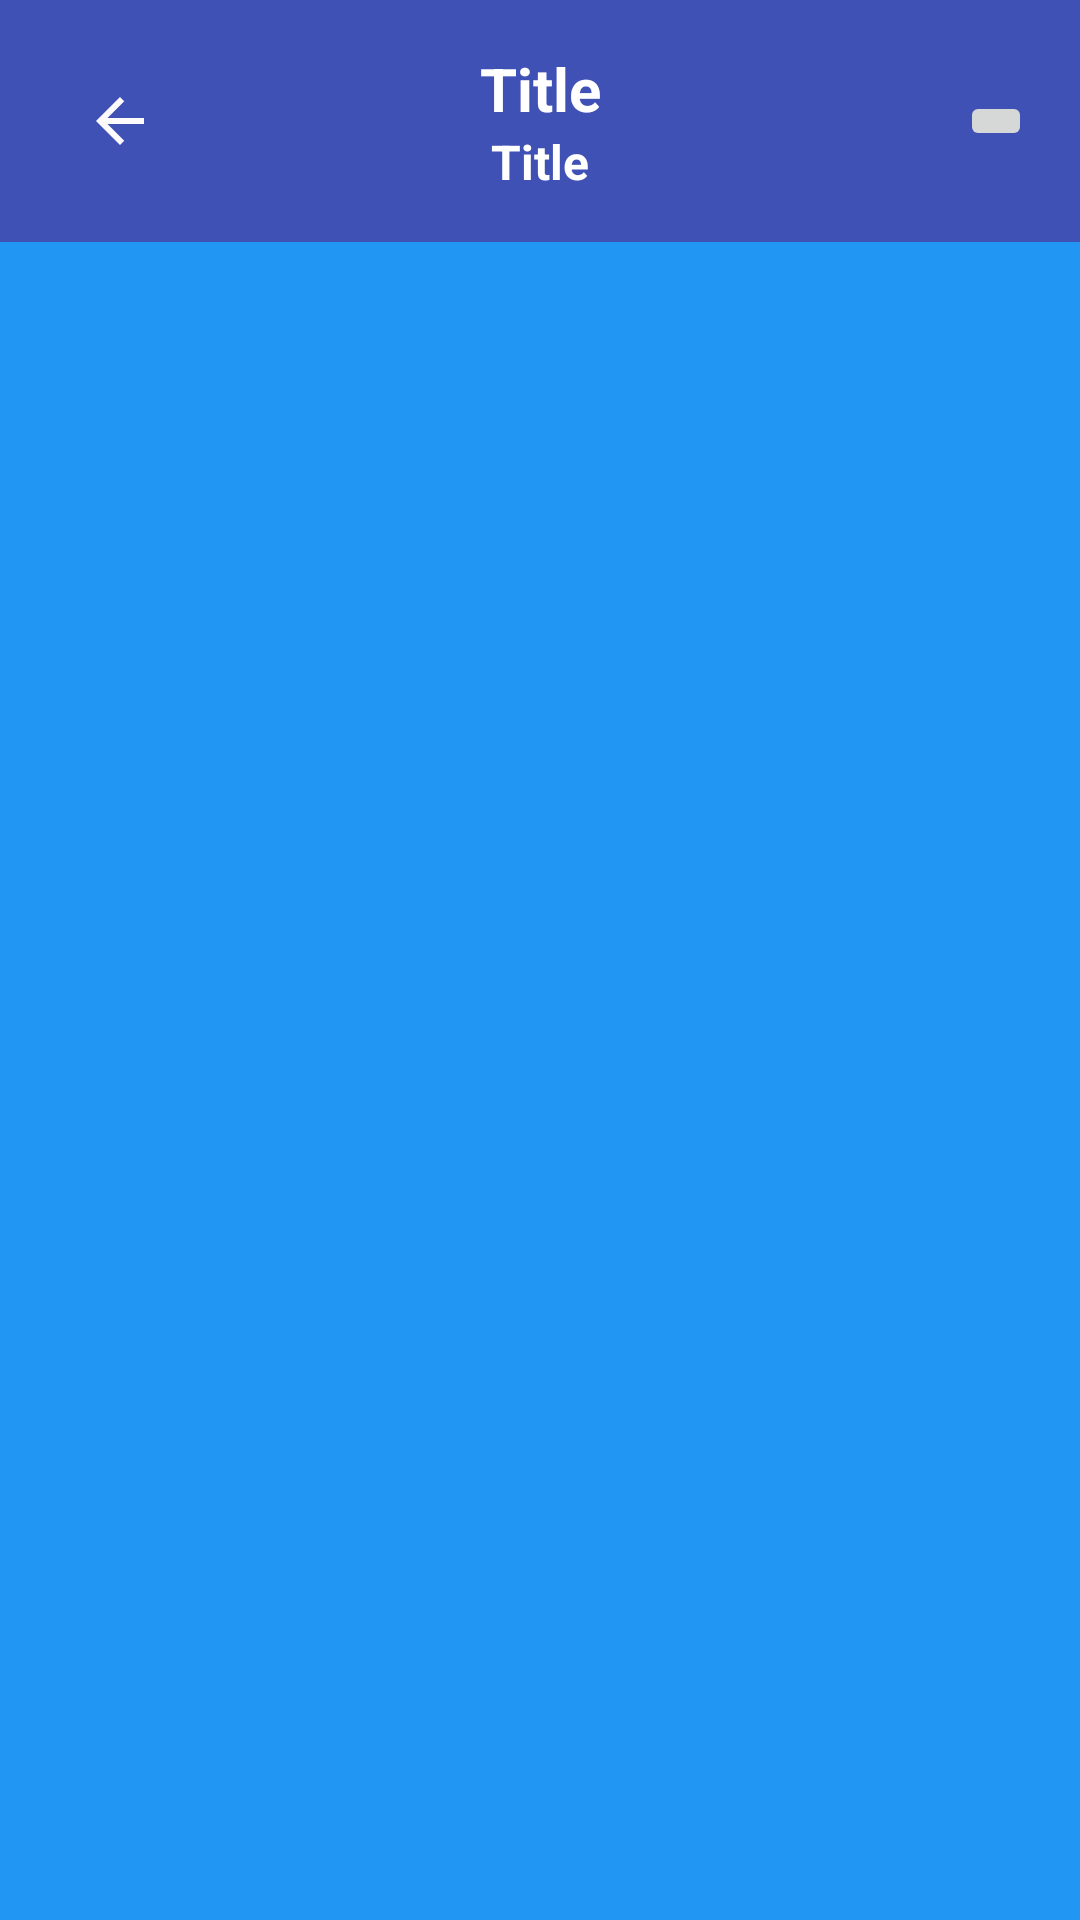

Locate icon controls on the screen. Image size 1080×1920, boxes as (x1, y1, x2, y2).
arrow back: (96, 97, 144, 145)
